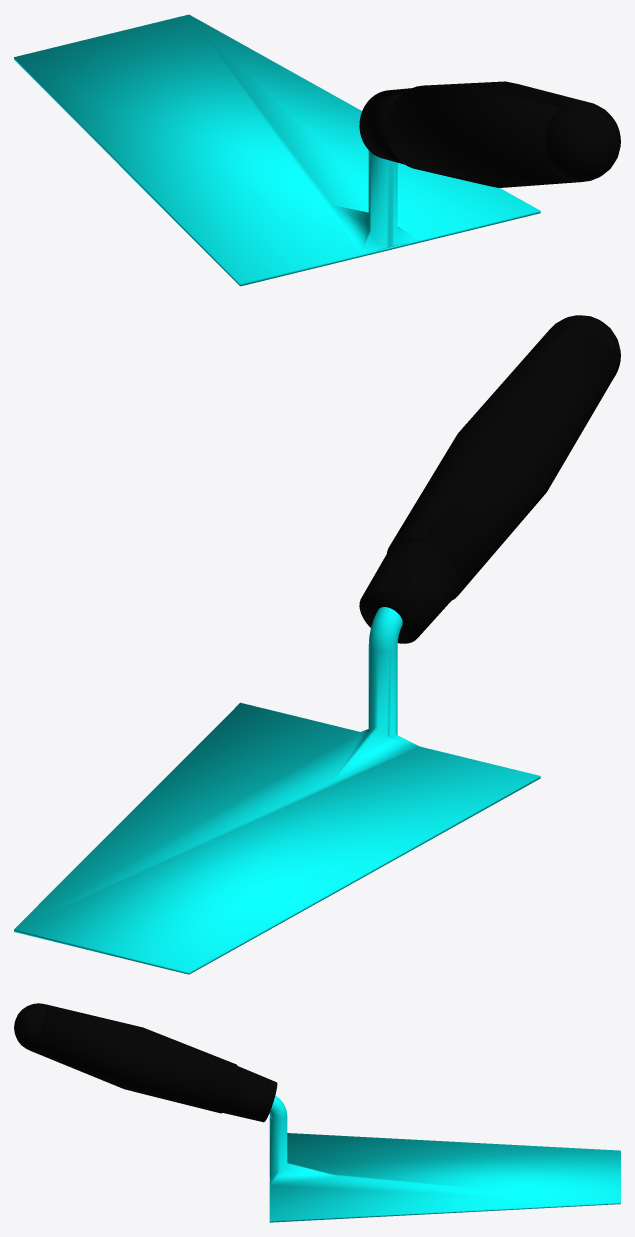
Rendered from trowel_03_origin_gt_3.dae.
3 renders of one model, top to bottom at view 1: azimuth 30°, elevation 25°; view 2: azimuth 150°, elevation 25°; view 3: azimuth 270°, elevation 25°, orthographic. The views are drawn at different scales.
Visible parts, largest first — view 1: Groupe_4, Groupe_3, Groupe_1, Groupe_2; view 2: Groupe_4, Groupe_3, Groupe_2, Groupe_1; view 3: Groupe_4, Groupe_3, Groupe_2, Groupe_1.
Part boxes in pixels (left/top/right/bottom): Groupe_4: left=14, top=14, right=540, bottom=286; Groupe_3: left=386, top=81, right=586, bottom=187; Groupe_1: left=545, top=101, right=620, bottom=181; Groupe_2: left=359, top=88, right=410, bottom=164; Groupe_4: left=14, top=607, right=540, bottom=974; Groupe_3: left=387, top=324, right=616, bottom=600; Groupe_2: left=359, top=539, right=459, bottom=643; Groupe_1: left=548, top=315, right=620, bottom=375; Groupe_4: left=269, top=1096, right=620, bottom=1222; Groupe_3: left=31, top=1004, right=237, bottom=1113; Groupe_2: left=222, top=1066, right=277, bottom=1122; Groupe_1: left=14, top=1003, right=46, bottom=1050.
Bounding box in the file's own units: 4.72 × 13.61 × 4.27.
